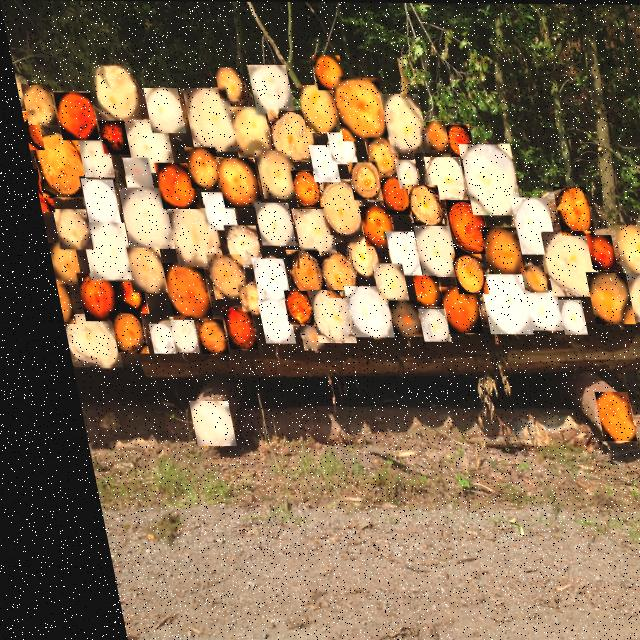wood-log: (459, 144, 510, 215), (536, 232, 587, 295), (331, 77, 381, 141), (29, 135, 80, 196), (115, 188, 164, 248), (184, 89, 231, 151), (471, 274, 518, 333), (53, 314, 105, 366), (164, 209, 210, 266), (74, 223, 120, 279), (155, 263, 198, 320), (122, 120, 166, 173), (313, 179, 355, 234), (93, 66, 134, 120), (507, 197, 545, 254), (267, 111, 309, 162), (381, 94, 418, 151), (338, 286, 379, 337), (440, 200, 479, 253), (407, 225, 447, 276), (301, 290, 339, 343), (579, 273, 618, 323), (213, 159, 252, 207), (249, 65, 288, 113), (228, 107, 265, 157), (175, 401, 216, 446), (580, 392, 618, 440), (53, 93, 91, 140), (252, 151, 290, 198), (70, 273, 106, 321), (287, 209, 325, 254), (151, 163, 188, 209), (297, 85, 334, 131), (475, 227, 511, 274), (420, 156, 458, 199), (549, 187, 583, 234), (432, 287, 468, 331), (143, 88, 178, 133), (312, 253, 347, 298), (119, 248, 154, 291), (199, 255, 234, 298), (249, 202, 284, 245), (608, 225, 640, 272), (279, 251, 313, 295), (77, 180, 110, 222), (244, 259, 277, 300), (217, 226, 250, 266), (363, 263, 396, 303), (402, 185, 435, 225), (180, 147, 212, 188), (337, 236, 369, 277), (101, 311, 132, 353), (379, 232, 409, 275), (48, 209, 80, 249), (249, 301, 280, 342), (516, 291, 549, 329), (443, 253, 474, 293), (212, 307, 242, 348), (41, 243, 70, 284), (75, 139, 106, 177), (363, 138, 393, 177), (354, 207, 384, 246), (197, 192, 227, 230), (343, 162, 374, 198), (22, 86, 50, 125), (378, 300, 407, 336), (374, 177, 403, 213), (312, 55, 341, 90), (619, 273, 640, 321), (185, 319, 213, 354), (287, 171, 313, 207), (305, 145, 331, 181), (323, 129, 349, 164), (159, 317, 184, 353), (274, 291, 302, 323), (106, 280, 133, 313), (95, 121, 122, 154), (549, 299, 574, 334), (118, 158, 145, 190), (409, 309, 436, 341), (442, 125, 467, 158), (403, 275, 429, 306), (581, 234, 604, 269), (29, 170, 47, 212), (215, 68, 240, 98), (137, 324, 161, 354), (21, 112, 39, 150), (46, 281, 61, 324), (228, 286, 253, 311), (390, 159, 411, 188), (422, 121, 443, 149), (515, 266, 536, 292), (288, 326, 310, 348)
